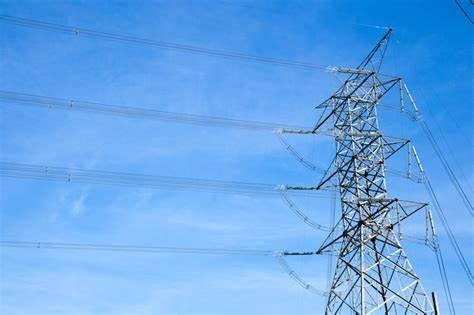power_tower: (285, 21, 446, 315)
